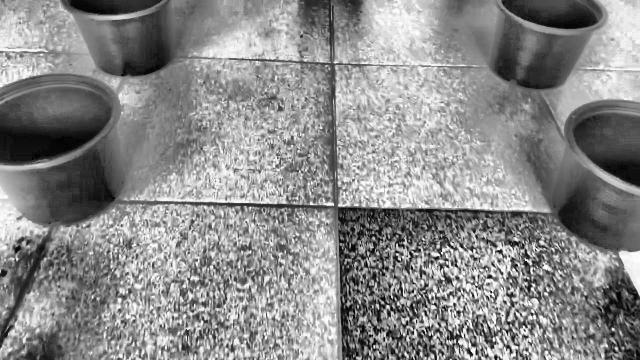pot: (0, 73, 124, 225), (552, 101, 640, 252), (490, 0, 608, 90), (60, 0, 173, 77)
